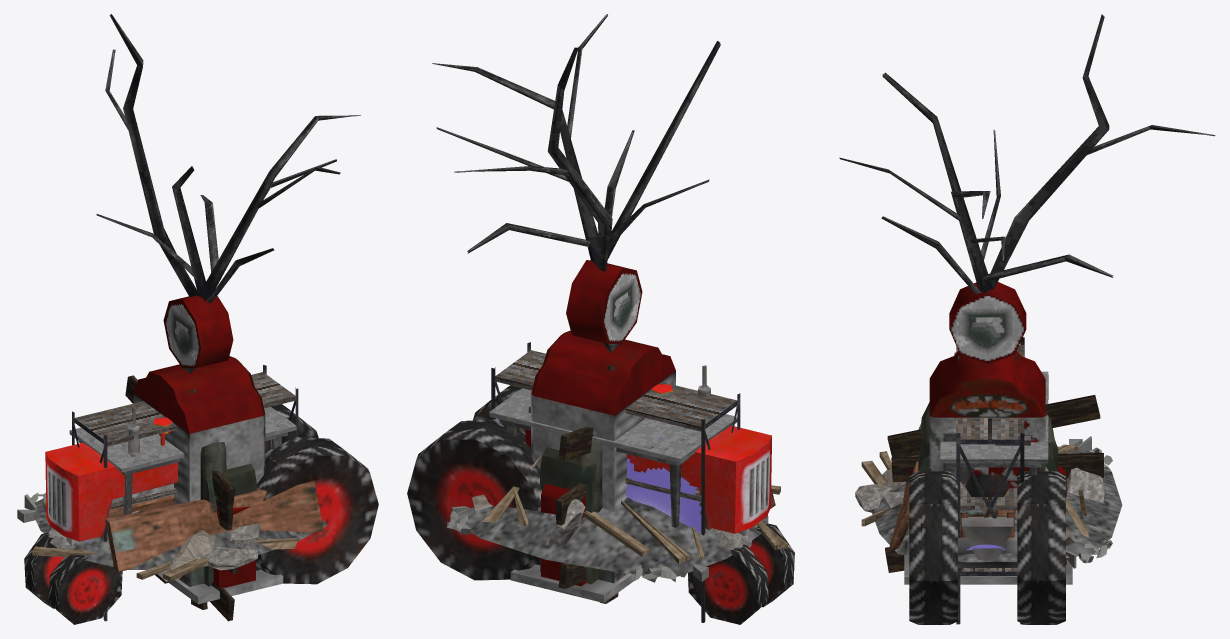
Rendered from props.glb.
The picture shows the model from 3 angles, left to right: view 1: azimuth 30°, elevation 25°; view 2: azimuth 150°, elevation 25°; view 3: azimuth 270°, elevation 25°; orthographic projection. The views are drawn at different scales.
Visible parts, largest first — view 1: tractor_q, mulekick_hl_q, mystery_debris_q, treesl_q, shelf_q, table_sq_q, window_q, sandbags_q, mystery_q; view 2: tractor_q, mulekick_hl_q, mystery_debris_q, treesl_q, shelf_q, table_sq_q, mystery_glow_q, window_q, sandbags_q; view 3: tractor_q, mulekick_hl_q, treesl_q, mystery_debris_q, shelf_q, window_q, table_sq_q.
Boxes of the visible parts, bbox=[...] form: tractor_q: bbox=[24, 404, 378, 624]; mulekick_hl_q: bbox=[133, 295, 283, 604]; mystery_debris_q: bbox=[17, 481, 327, 581]; treesl_q: bbox=[96, 14, 360, 373]; shelf_q: bbox=[72, 365, 298, 621]; table_sq_q: bbox=[69, 407, 296, 514]; window_q: bbox=[125, 375, 237, 621]; sandbags_q: bbox=[200, 442, 226, 499]; mystery_q: bbox=[99, 495, 174, 539]; tractor_q: bbox=[407, 365, 794, 624]; mulekick_hl_q: bbox=[510, 260, 675, 602]; mystery_debris_q: bbox=[447, 456, 787, 582]; treesl_q: bbox=[432, 14, 720, 352]; shelf_q: bbox=[491, 342, 740, 622]; table_sq_q: bbox=[489, 388, 737, 527]; mystery_glow_q: bbox=[496, 418, 701, 532]; window_q: bbox=[555, 365, 643, 603]; sandbags_q: bbox=[576, 442, 602, 512]; tractor_q: bbox=[909, 351, 1065, 624]; mulekick_hl_q: bbox=[904, 282, 1072, 584]; treesl_q: bbox=[839, 14, 1215, 294]; mystery_debris_q: bbox=[855, 423, 1122, 568]; shelf_q: bbox=[956, 337, 1024, 624]; window_q: bbox=[885, 354, 1103, 572]; table_sq_q: bbox=[940, 371, 1048, 477].
Bounding box in the file's own units: 4.13 × 6.42 × 3.95.
59 materials, 59 textured.
